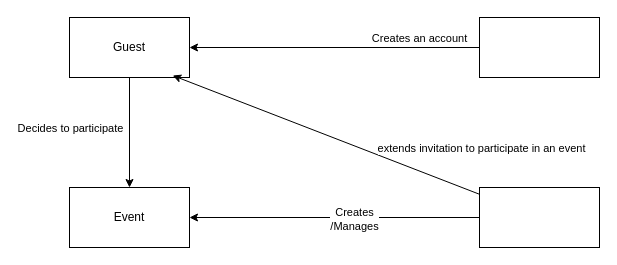
The diagram is 617 pixels wide and 265 high, and some of its shapes have lost their labels. The shapes that lost their labels are listed below. From the top down, each one's centre as x and y in pixels, then its label:
At [539,47]: "Anonymous".
At [539,217]: "Creator".
